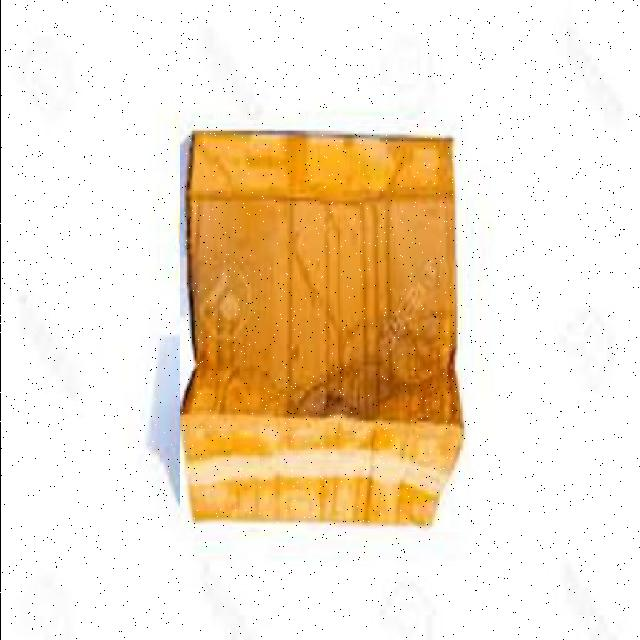defect: (179, 120, 466, 532)
